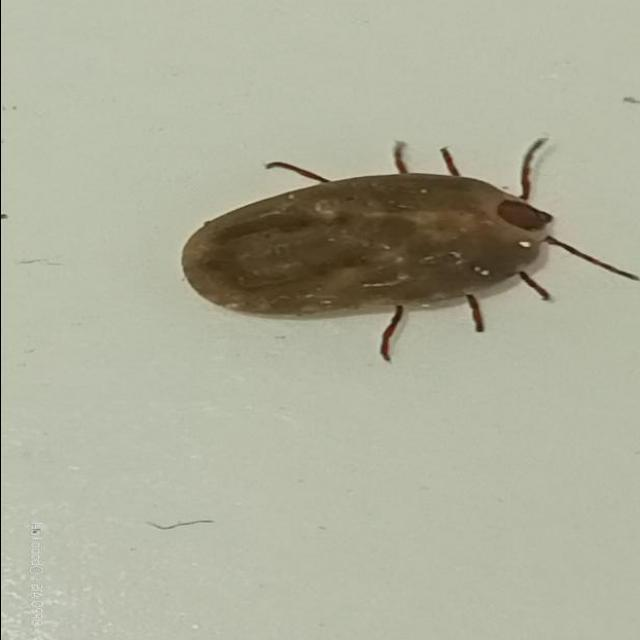Rhipicephalus Sanguineus-F-Fed: (176, 136, 640, 363)
